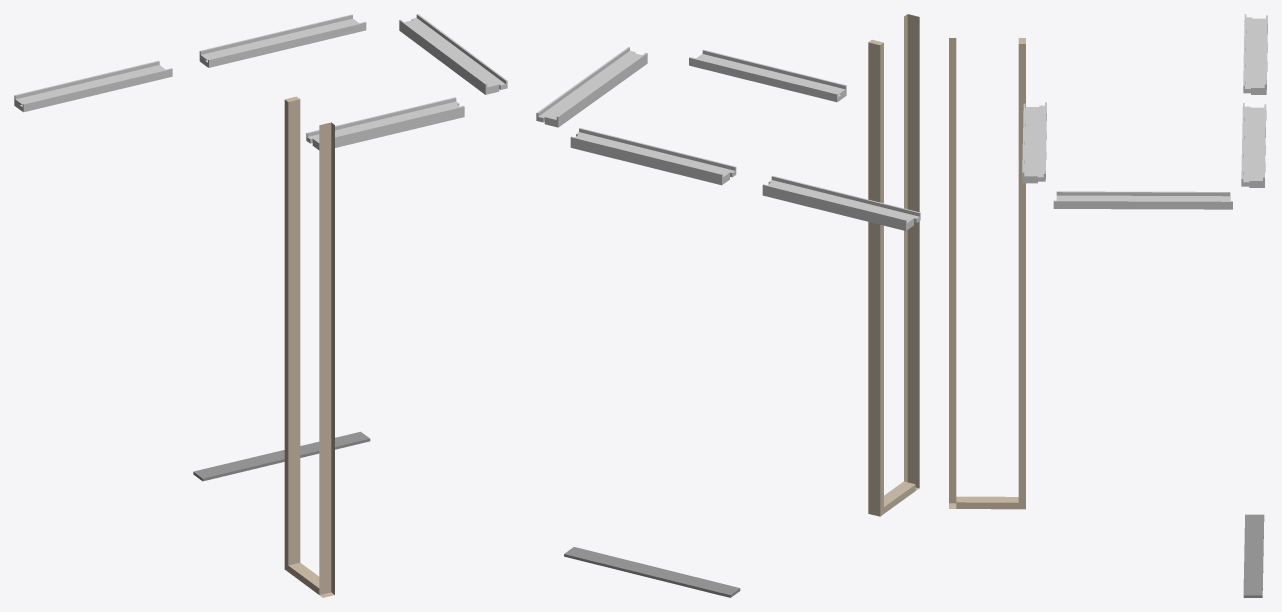
The picture shows the model from 3 angles, left to right: view 1: azimuth 30°, elevation 25°; view 2: azimuth 150°, elevation 25°; view 3: azimuth 270°, elevation 25°; orthographic projection.
Size of the model in its own units: 2.31 by 2.67 by 1.66.
